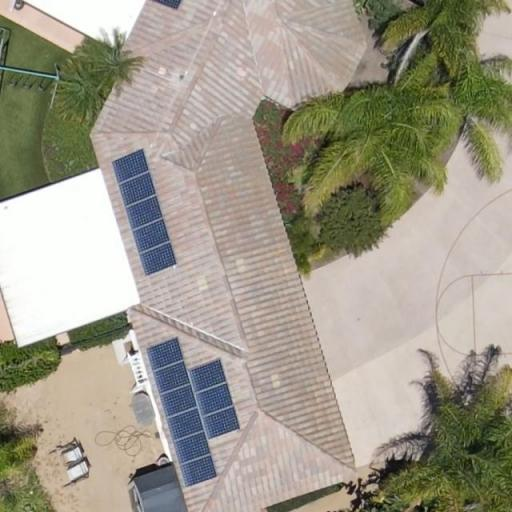solar-panel: (145, 335, 240, 489), (111, 148, 178, 276), (151, 0, 182, 10)
